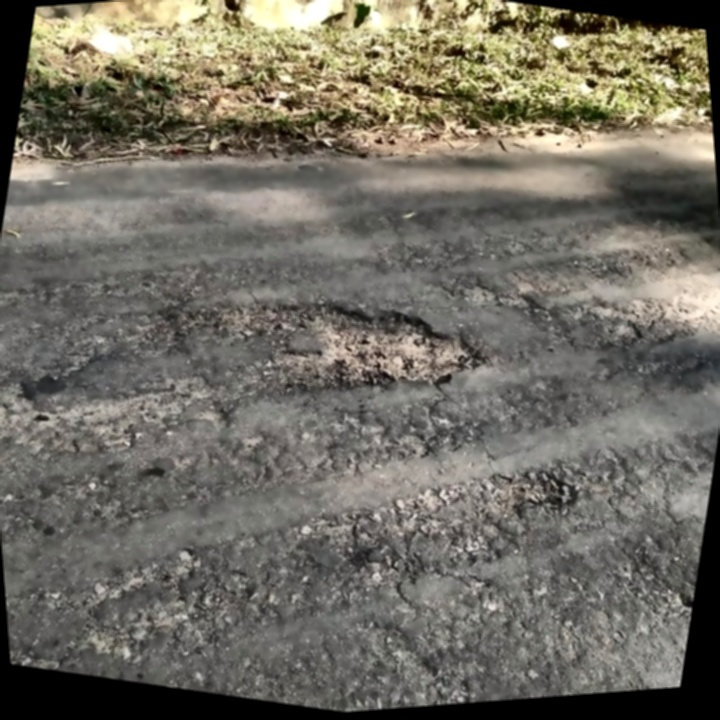pothole: (173, 255, 502, 439), (483, 454, 588, 534)
